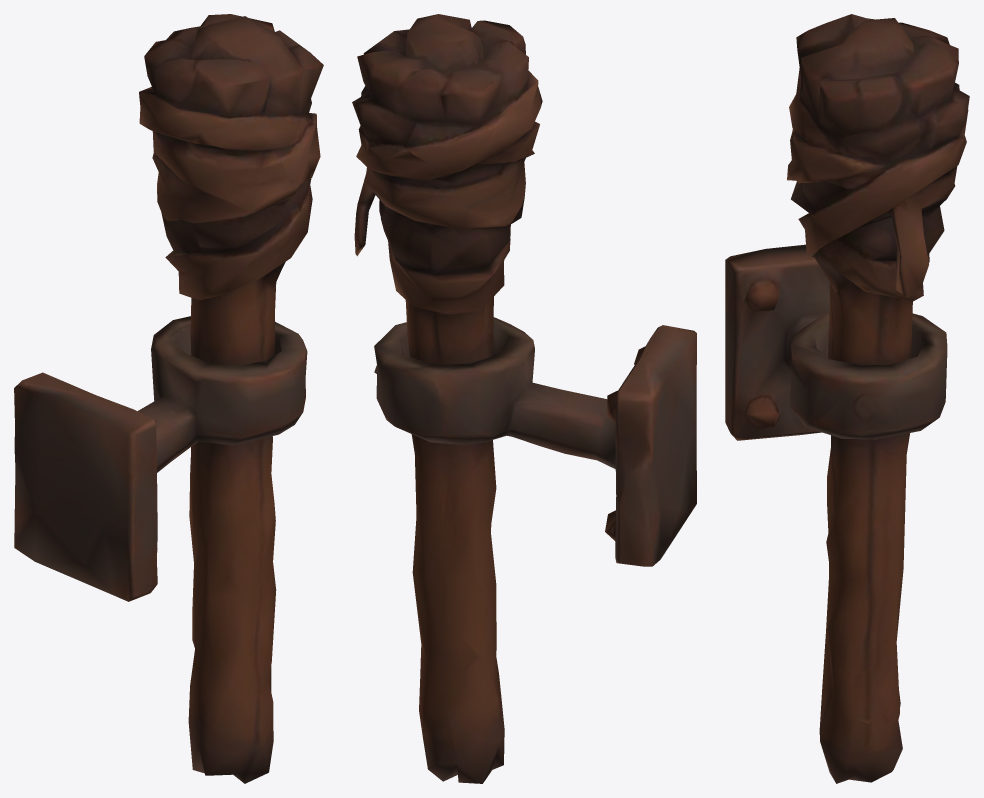
Rendered from model-prop-wall-torch-01.glb.
3 renders of one model, left to right at view 1: azimuth 30°, elevation 25°; view 2: azimuth 150°, elevation 25°; view 3: azimuth 270°, elevation 25°, orthographic.
Parts seen in each view (by area): view 1: tripo_node_997228c5-cd27-478e-9bfa-7d8771289a24; view 2: tripo_node_997228c5-cd27-478e-9bfa-7d8771289a24; view 3: tripo_node_997228c5-cd27-478e-9bfa-7d8771289a24.
Boxes of the visible parts, left/top/right/bottom form: tripo_node_997228c5-cd27-478e-9bfa-7d8771289a24: left=14, top=14, right=323, bottom=783; tripo_node_997228c5-cd27-478e-9bfa-7d8771289a24: left=352, top=14, right=696, bottom=783; tripo_node_997228c5-cd27-478e-9bfa-7d8771289a24: left=725, top=14, right=969, bottom=783.
Size of the model in its own units: 0.2044 by 0.5 by 0.1483.
1 material, 1 textured.
